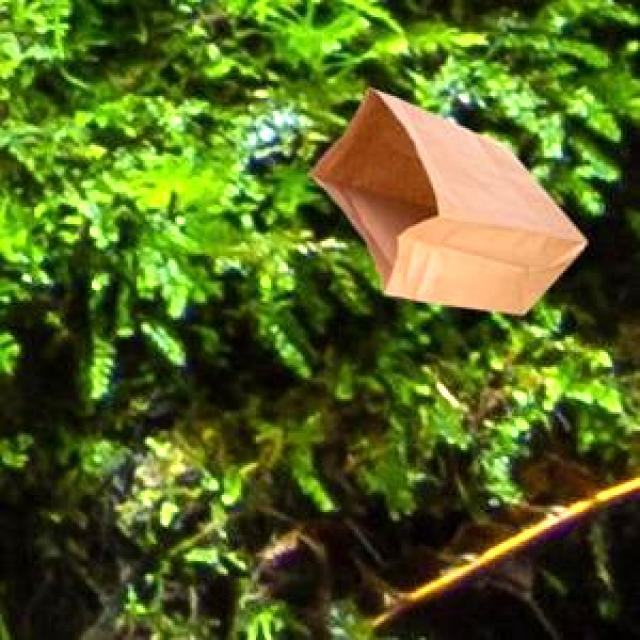Paper_Bag: (306, 87, 584, 310)
